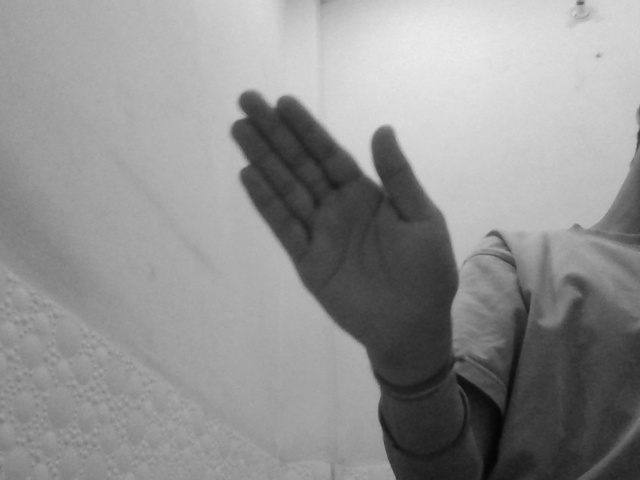Hello: (230, 87, 460, 371)
